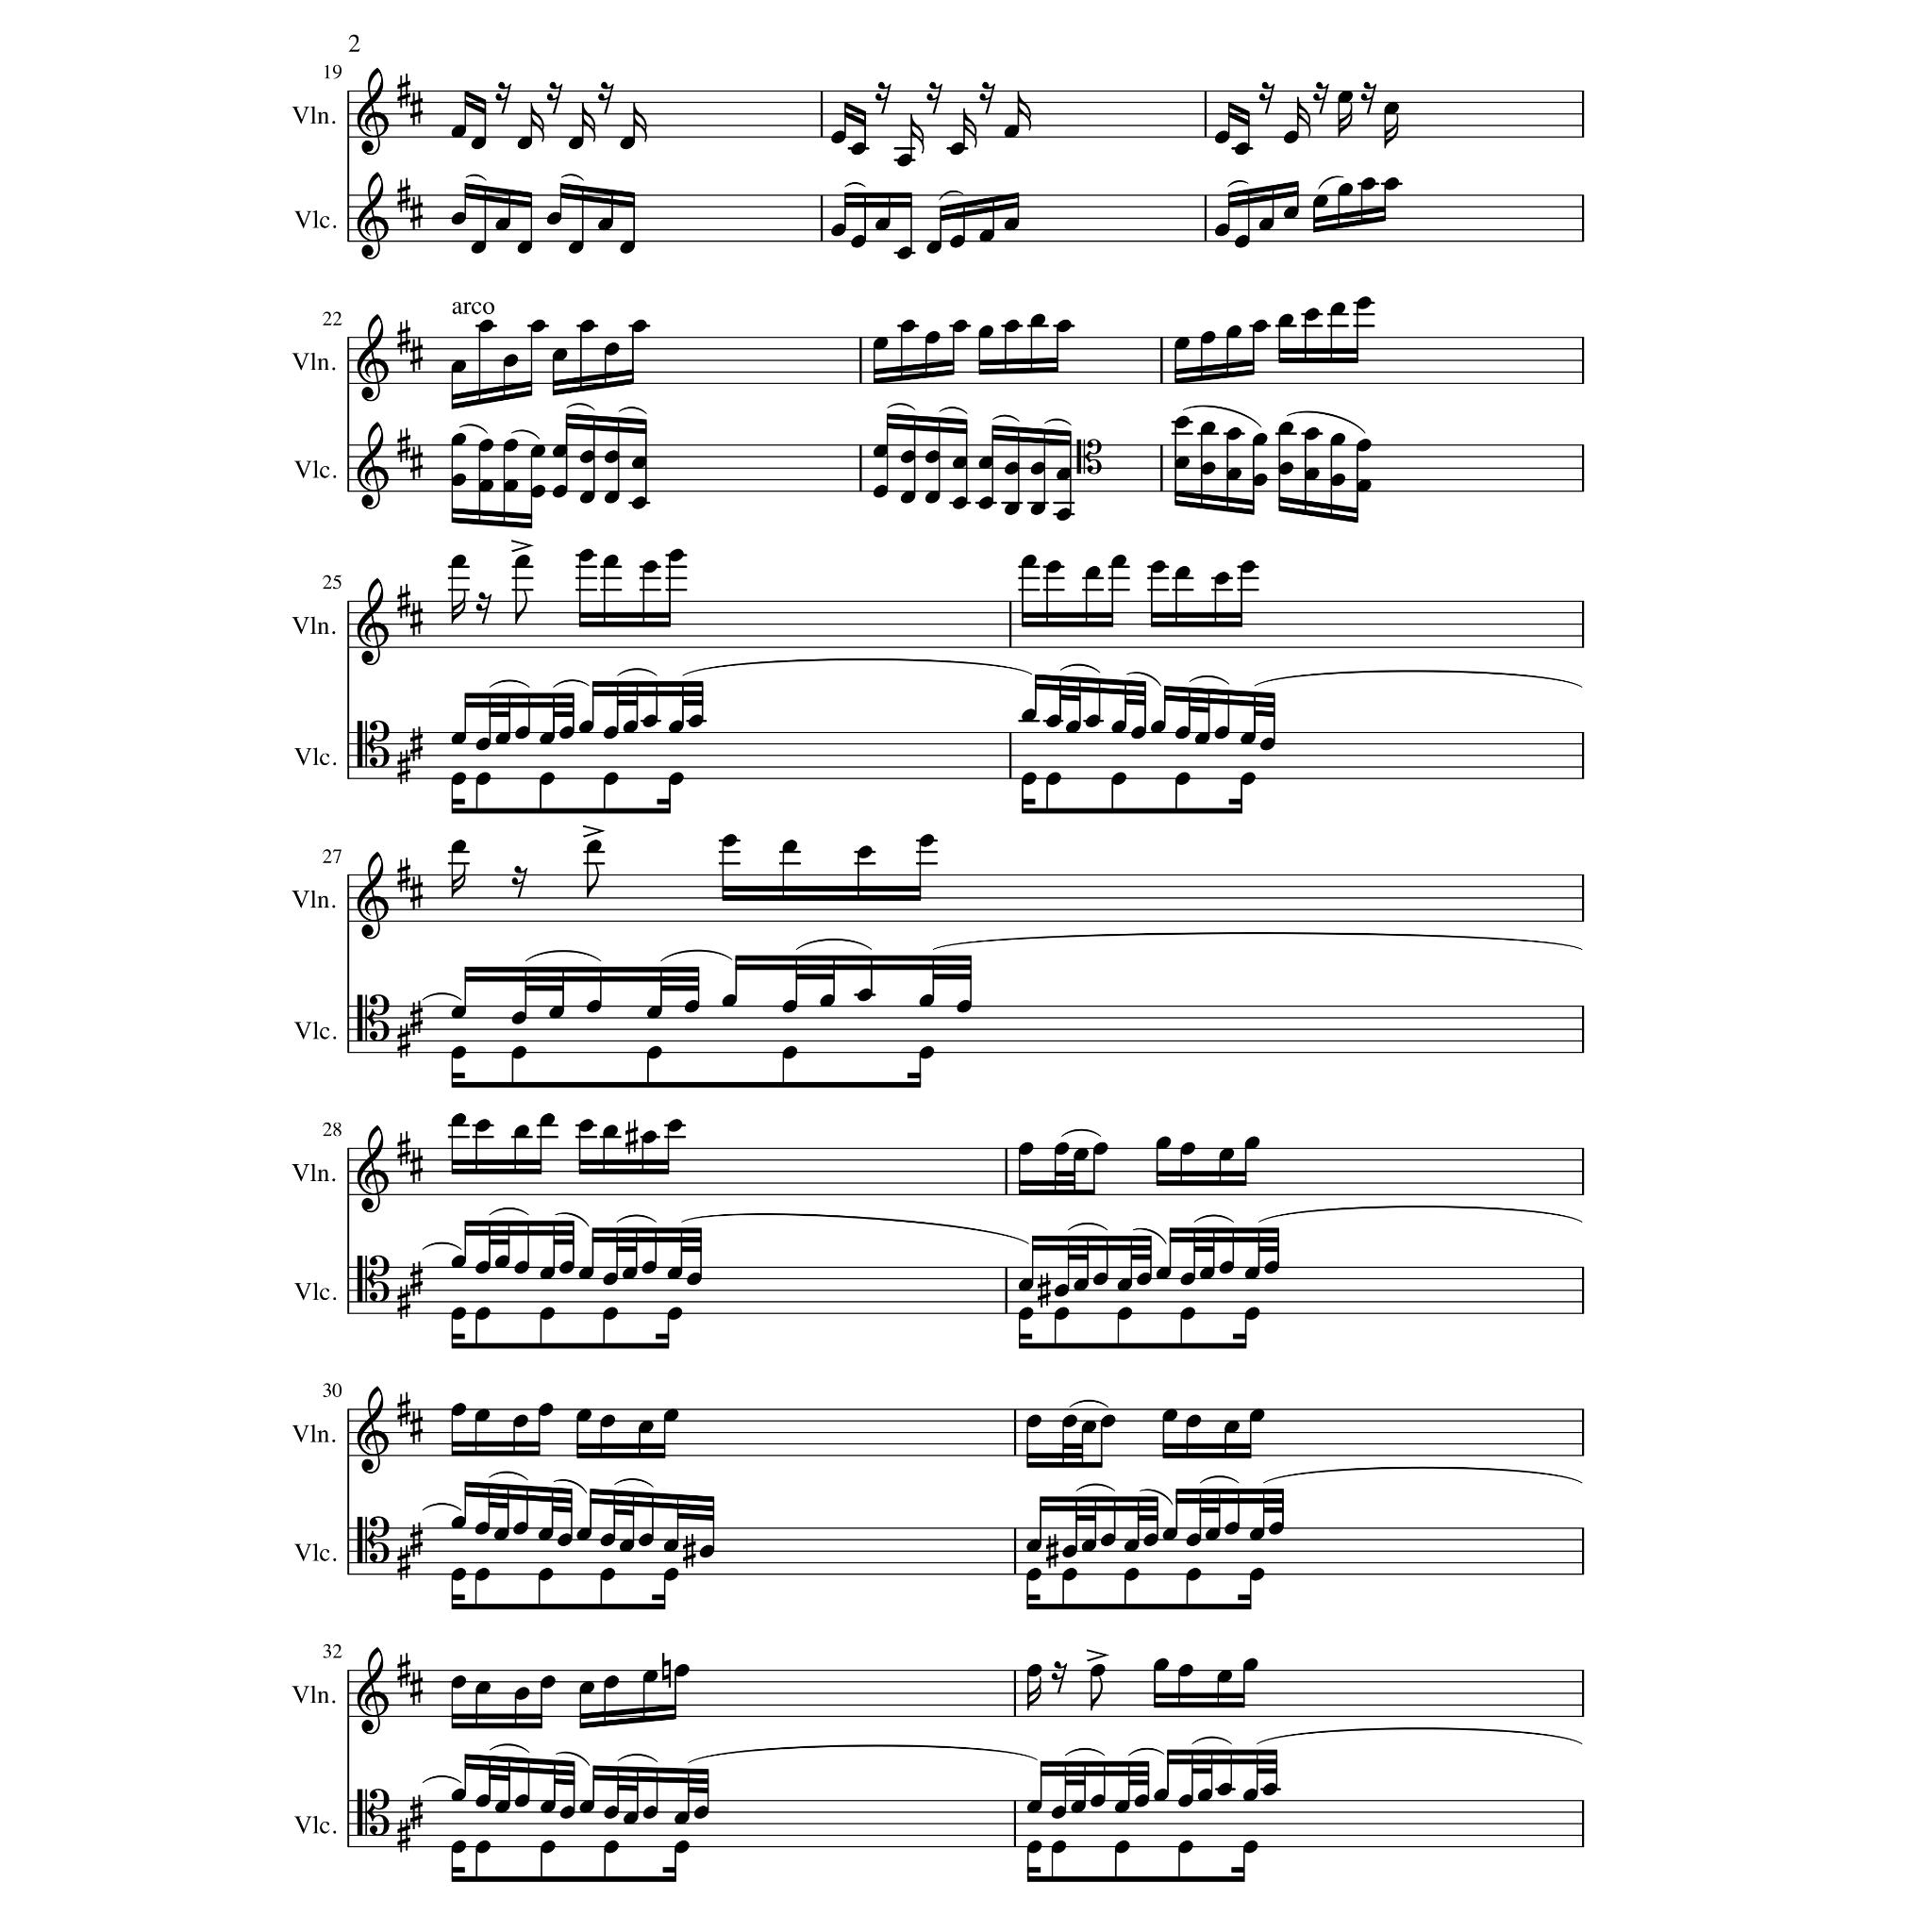flag16thDown: (1384, 115, 1399, 150), (1338, 103, 1352, 138), (451, 863, 465, 899), (1026, 1675, 1040, 1711), (451, 591, 465, 625)
flag16thUp: (964, 110, 978, 150), (1017, 90, 1031, 131), (1297, 97, 1311, 138), (531, 103, 545, 143), (582, 103, 596, 143), (909, 115, 924, 156), (633, 103, 648, 143)
flag8thDown: (586, 863, 598, 899), (515, 591, 527, 625), (1092, 1677, 1104, 1711)
gClef: (357, 851, 389, 941), (357, 1645, 389, 1736), (357, 67, 389, 156), (357, 172, 389, 260), (357, 421, 389, 510), (357, 577, 389, 665), (357, 1125, 389, 1214), (357, 1385, 389, 1474), (357, 315, 389, 402)
noteheadBlack: (830, 131, 847, 145), (830, 223, 847, 237), (630, 456, 648, 471), (630, 495, 648, 510), (630, 318, 648, 333), (686, 715, 704, 729), (602, 1272, 619, 1286), (602, 1125, 619, 1139), (1099, 1532, 1116, 1546), (1113, 1799, 1131, 1813), (1113, 1840, 1131, 1854), (474, 1840, 492, 1854), (474, 1794, 492, 1808), (474, 1681, 492, 1695), (1214, 223, 1230, 237), (1214, 131, 1230, 145), (1258, 218, 1274, 232), (925, 241, 941, 255), (1003, 218, 1019, 232), (978, 228, 994, 242), (1384, 177, 1399, 191), (1313, 195, 1329, 209), (1283, 131, 1299, 145), (1361, 177, 1376, 191), (1338, 182, 1353, 196), (1338, 90, 1353, 104), (517, 136, 533, 150), (517, 241, 533, 255), (495, 218, 511, 232), (568, 136, 584, 150), (568, 241, 584, 255), (471, 241, 487, 255), (471, 136, 487, 150), (876, 218, 892, 232), (619, 136, 635, 150), (619, 241, 635, 255), (596, 218, 612, 232), (1175, 416, 1191, 430), (1175, 456, 1191, 471), (1175, 336, 1191, 350), (1226, 467, 1242, 481), (1200, 421, 1215, 435), (1200, 462, 1215, 476), (1200, 331, 1215, 345), (1030, 462, 1046, 476), (1005, 462, 1021, 476), (1005, 318, 1021, 333), (1056, 467, 1072, 481), (1056, 508, 1072, 522), (1056, 318, 1072, 333), (1277, 421, 1293, 435), (1277, 462, 1293, 476), (1251, 318, 1267, 333), (1304, 467, 1320, 481), (1304, 308, 1320, 322), (552, 444, 568, 458), (552, 485, 568, 499), (552, 347, 568, 361), (529, 444, 545, 458), (529, 485, 545, 499), (529, 318, 545, 333), (603, 449, 619, 464), (603, 490, 619, 504), (579, 449, 594, 464), (579, 490, 594, 504), (579, 318, 594, 333), (451, 359, 467, 373), (502, 354, 518, 368), (478, 318, 494, 333), (924, 449, 939, 464), (924, 490, 939, 504), (924, 331, 939, 345), (899, 449, 915, 464), (899, 490, 915, 504), (899, 318, 915, 333), (978, 456, 994, 471), (978, 495, 994, 510), (952, 456, 968, 471), (952, 495, 968, 510), (952, 318, 968, 333), (872, 444, 888, 458), (872, 485, 888, 499), (872, 336, 888, 350), (1085, 715, 1100, 729), (1150, 559, 1166, 573), (1046, 715, 1062, 729), (1046, 559, 1062, 573), (1240, 559, 1256, 573), (1214, 571, 1230, 586), (667, 548, 683, 563), (642, 715, 658, 729), (642, 559, 658, 573), (1021, 708, 1037, 722), (579, 548, 594, 563), (856, 846, 872, 860), (856, 989, 872, 1003), (722, 833, 738, 847), (782, 1000, 798, 1014), (782, 1046, 798, 1060), (955, 1000, 971, 1014), (918, 833, 934, 847), (918, 1046, 934, 1060), (451, 1005, 467, 1019), (451, 1046, 467, 1060), (511, 1046, 527, 1060), (683, 1000, 699, 1014), (646, 1046, 662, 1060), (586, 1000, 602, 1014), (646, 1005, 662, 1019), (548, 1005, 564, 1019), (1092, 1272, 1108, 1286), (1074, 1277, 1090, 1292), (1155, 1267, 1171, 1281), (1155, 1136, 1171, 1150), (1136, 1272, 1152, 1286), (1116, 1277, 1132, 1292), (1263, 1260, 1279, 1274), (1180, 1272, 1196, 1286), (1244, 1267, 1260, 1281), (1244, 1136, 1260, 1150), (1219, 1260, 1235, 1274), (513, 1260, 529, 1274), (513, 1125, 529, 1139), (540, 1267, 556, 1281), (540, 1113, 556, 1127), (451, 1113, 467, 1127), (474, 1260, 490, 1274), (474, 1118, 490, 1132), (667, 1267, 683, 1281), (667, 1118, 683, 1132), (640, 1260, 656, 1274), (621, 1267, 637, 1281), (1017, 1277, 1033, 1292), (686, 1272, 702, 1286), (579, 1118, 594, 1132), (579, 1267, 594, 1281), (559, 1260, 575, 1274), (1081, 1419, 1097, 1433), (1162, 1527, 1178, 1541), (1162, 1408, 1178, 1422), (1143, 1532, 1159, 1546), (1123, 1568, 1139, 1582), (1062, 1568, 1077, 1582), (1062, 1545, 1077, 1559), (1267, 1522, 1283, 1536), (1185, 1568, 1201, 1582), (1185, 1532, 1201, 1546), (1249, 1568, 1265, 1582), (1249, 1527, 1265, 1541), (1249, 1408, 1265, 1422), (1224, 1522, 1240, 1536), (1224, 1419, 1240, 1433), (1205, 1527, 1221, 1541), (513, 1522, 529, 1536), (494, 1527, 510, 1541), (538, 1568, 554, 1582), (538, 1527, 554, 1541), (474, 1568, 490, 1582), (474, 1522, 490, 1536), (474, 1408, 490, 1422), (451, 1568, 467, 1582), (663, 1568, 679, 1582), (663, 1408, 679, 1422), (639, 1532, 655, 1546), (639, 1419, 655, 1433), (1026, 1568, 1042, 1582), (699, 1545, 715, 1559), (600, 1568, 616, 1582), (577, 1408, 593, 1422), (600, 1532, 616, 1546), (577, 1527, 593, 1541), (557, 1532, 573, 1546), (1090, 1794, 1106, 1808), (1070, 1799, 1086, 1813), (1152, 1789, 1168, 1803), (1134, 1794, 1150, 1808), (1026, 1840, 1042, 1854), (1026, 1799, 1042, 1813), (1051, 1840, 1067, 1854), (1178, 1840, 1194, 1854), (1178, 1794, 1194, 1808), (1242, 1840, 1258, 1854), (1242, 1789, 1258, 1803), (1196, 1789, 1212, 1803), (513, 1794, 529, 1808), (513, 1686, 529, 1700), (494, 1799, 510, 1813), (540, 1840, 556, 1854), (540, 1799, 556, 1813), (540, 1675, 556, 1690), (451, 1675, 467, 1690), (451, 1840, 467, 1854), (451, 1789, 467, 1803), (674, 1840, 690, 1854), (603, 1840, 619, 1854), (603, 1675, 619, 1690), (579, 1681, 594, 1695), (579, 1799, 594, 1813), (545, 212, 563, 225), (1355, 439, 1373, 451), (1355, 479, 1373, 492), (1355, 297, 1373, 310), (474, 773, 492, 786), (474, 738, 492, 750), (602, 773, 619, 786), (602, 727, 619, 740), (602, 556, 619, 568), (602, 1307, 619, 1320), (1099, 1415, 1116, 1428), (1200, 1267, 1214, 1281), (1235, 235, 1251, 248), (1235, 143, 1251, 156), (1003, 126, 1019, 138), (1384, 103, 1399, 115), (1283, 207, 1299, 219), (451, 126, 467, 138), (451, 212, 467, 225), (897, 248, 913, 260), (897, 154, 913, 166), (1226, 428, 1242, 441), (1226, 326, 1242, 338), (1030, 502, 1046, 515), (1030, 315, 1046, 327), (1005, 502, 1021, 515), (1277, 315, 1293, 327), (1251, 433, 1267, 446), (1251, 474, 1267, 487), (1304, 428, 1320, 441), (603, 343, 619, 356), (451, 433, 467, 446), (451, 474, 467, 487), (502, 439, 518, 451), (502, 479, 518, 492), (478, 439, 494, 451), (478, 479, 494, 492), (978, 326, 994, 338), (1111, 556, 1127, 568), (1111, 720, 1127, 732), (1111, 773, 1127, 786), (1085, 566, 1100, 579), (1131, 727, 1146, 740), (1150, 720, 1166, 732), (1065, 720, 1081, 732), (1046, 773, 1062, 786), (1260, 738, 1276, 750), (1175, 773, 1191, 786), (1175, 727, 1191, 740), (1175, 566, 1191, 579), (1240, 773, 1256, 786), (1240, 732, 1256, 745), (1214, 727, 1230, 740), (1194, 732, 1210, 745), (515, 727, 531, 740), (515, 556, 531, 568), (495, 732, 511, 745), (557, 727, 573, 740), (540, 773, 556, 786), (540, 732, 556, 745), (451, 556, 467, 568), (451, 773, 467, 786), (451, 732, 467, 745), (667, 773, 683, 786), (667, 720, 683, 732), (1021, 773, 1037, 786), (1021, 556, 1037, 568), (579, 720, 594, 732), (623, 720, 639, 732), (819, 994, 835, 1007), (722, 994, 738, 1007), (782, 840, 798, 853), (918, 994, 934, 1007), (451, 840, 467, 853), (511, 1012, 527, 1024), (586, 840, 602, 853), (1092, 1143, 1108, 1155), (1074, 1148, 1090, 1161), (1116, 1307, 1132, 1320), (1053, 1307, 1069, 1320), (1053, 1284, 1069, 1297), (1053, 1143, 1069, 1155), (1180, 1307, 1196, 1320), (1180, 1143, 1196, 1155), (1244, 1307, 1260, 1320), (1219, 1148, 1235, 1161), (494, 1256, 510, 1269), (540, 1307, 556, 1320), (474, 1307, 490, 1320), (451, 1307, 467, 1320), (451, 1256, 467, 1269), (667, 1307, 683, 1320), (640, 1131, 656, 1143), (1017, 1307, 1033, 1320), (1017, 1143, 1033, 1155), (1081, 1539, 1097, 1552), (1123, 1539, 1139, 1552), (1062, 1415, 1077, 1428), (1185, 1415, 1201, 1428), (513, 1415, 529, 1428), (538, 1403, 554, 1415), (451, 1403, 467, 1415), (451, 1516, 467, 1529), (663, 1539, 679, 1552), (619, 1539, 635, 1552), (1026, 1539, 1042, 1552), (1026, 1415, 1042, 1428), (600, 1415, 616, 1428), (1090, 1665, 1106, 1677), (1152, 1658, 1168, 1670), (1051, 1806, 1067, 1819), (1261, 1783, 1277, 1796), (1178, 1665, 1194, 1677), (1242, 1658, 1258, 1670), (1217, 1783, 1233, 1796), (1217, 1670, 1233, 1683), (674, 1812, 690, 1824), (674, 1665, 690, 1677), (642, 1806, 658, 1819), (642, 1670, 658, 1683), (1026, 1665, 1042, 1677), (694, 1806, 709, 1819), (603, 1806, 619, 1819), (559, 1806, 575, 1819), (950, 235, 964, 248), (950, 143, 964, 156), (851, 235, 865, 248), (851, 143, 865, 156), (1330, 433, 1345, 446), (1330, 474, 1345, 487), (1330, 303, 1345, 315), (623, 1812, 637, 1824)
rest16th: (1051, 1660, 1069, 1695), (510, 865, 527, 899), (1258, 83, 1276, 115), (925, 83, 943, 115), (978, 83, 996, 115), (494, 83, 511, 115), (874, 83, 892, 115), (476, 591, 492, 626), (1313, 83, 1329, 115), (1361, 83, 1376, 115), (547, 83, 563, 115), (598, 83, 614, 115)
